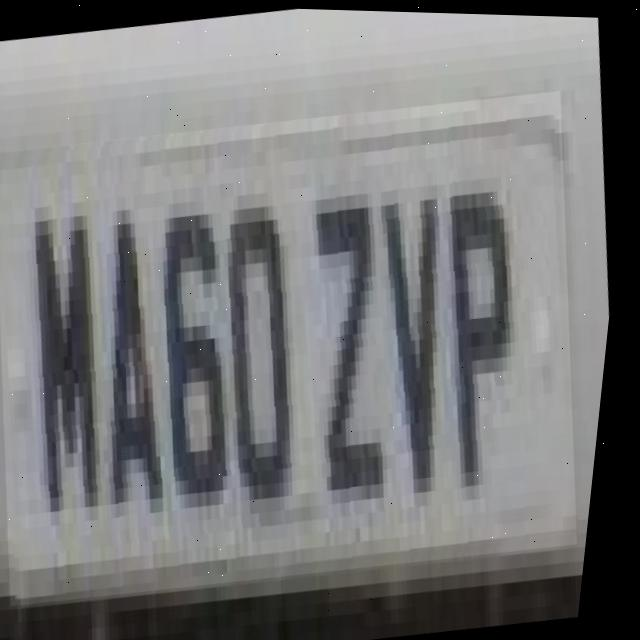LicensePlate: (0, 74, 625, 619)
